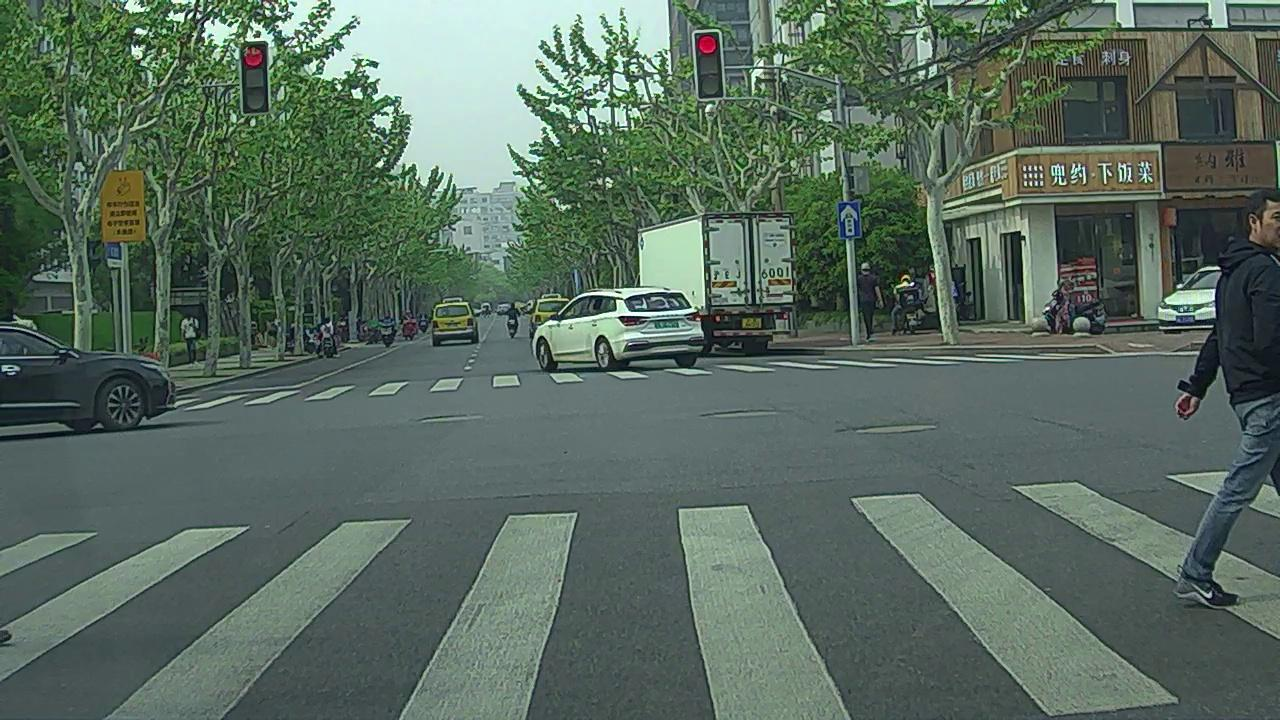traffic_light: (239, 41, 270, 116), (697, 32, 724, 97)
